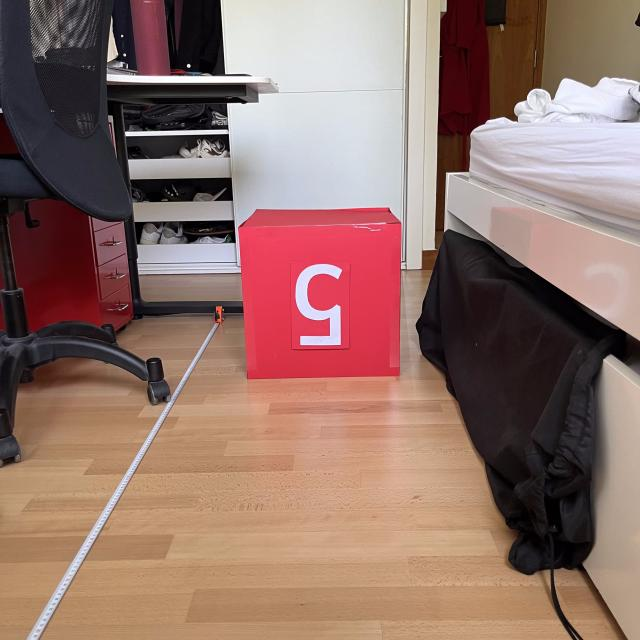box: (234, 203, 405, 381)
